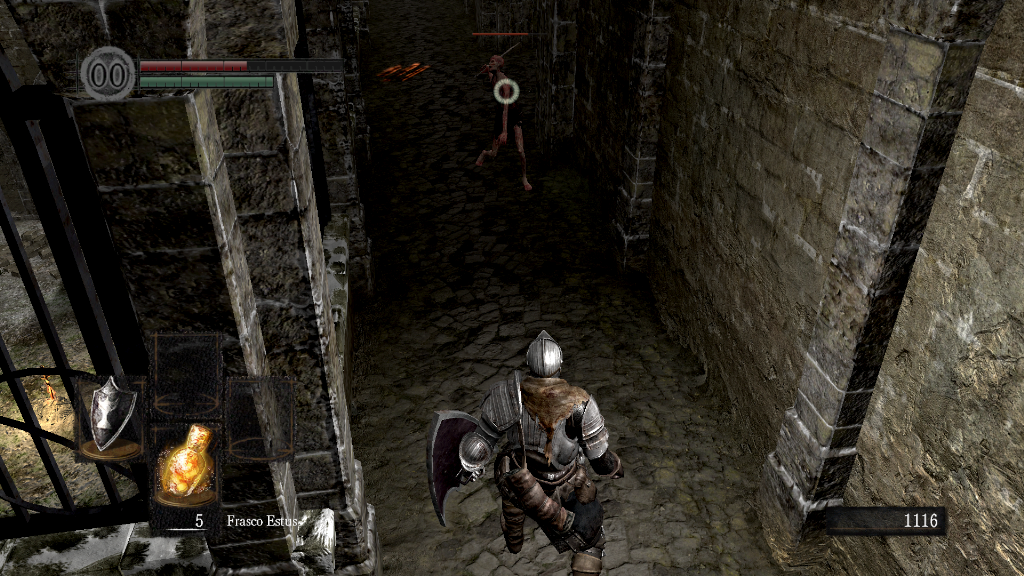health: (138, 58, 343, 71)
hollow: (472, 54, 535, 195)
humanity: (80, 45, 136, 102)
player: (426, 329, 625, 576)
souls: (825, 506, 945, 536)
stamina: (138, 74, 274, 88)
